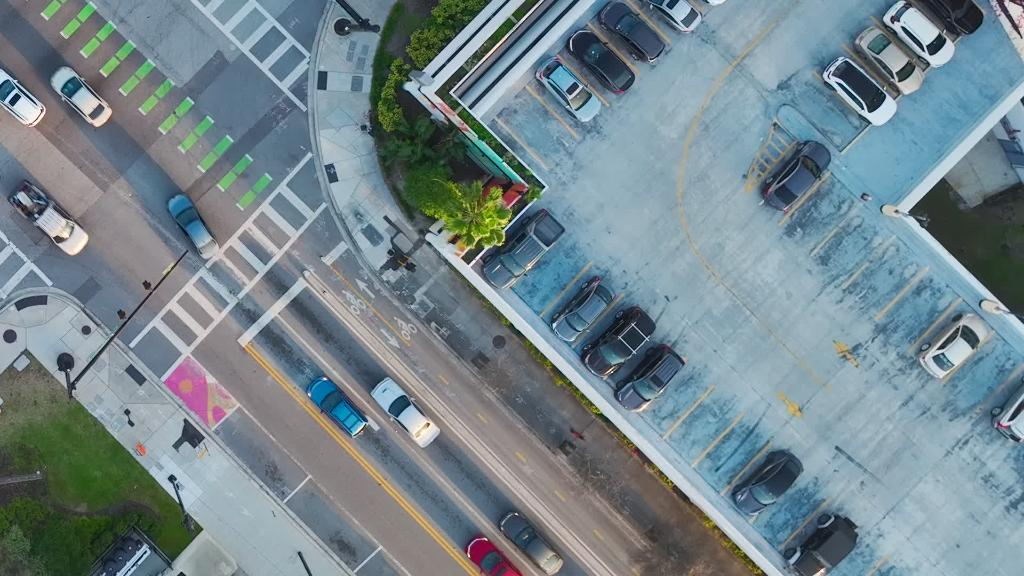cars: (480, 208, 566, 290), (7, 180, 89, 256), (822, 55, 898, 126), (582, 306, 656, 376), (370, 376, 440, 448), (732, 448, 804, 518), (614, 342, 686, 412), (762, 140, 832, 212), (854, 25, 926, 95), (883, 0, 955, 68), (784, 512, 860, 576), (918, 312, 988, 378), (551, 274, 617, 342), (535, 56, 601, 124), (566, 28, 634, 94), (498, 510, 564, 576), (598, 0, 665, 62), (306, 375, 368, 439), (50, 66, 112, 128), (166, 192, 220, 260), (0, 68, 45, 128), (910, 0, 984, 34), (629, 0, 702, 34), (464, 534, 522, 576), (990, 374, 1024, 444), (659, 0, 733, 5)
